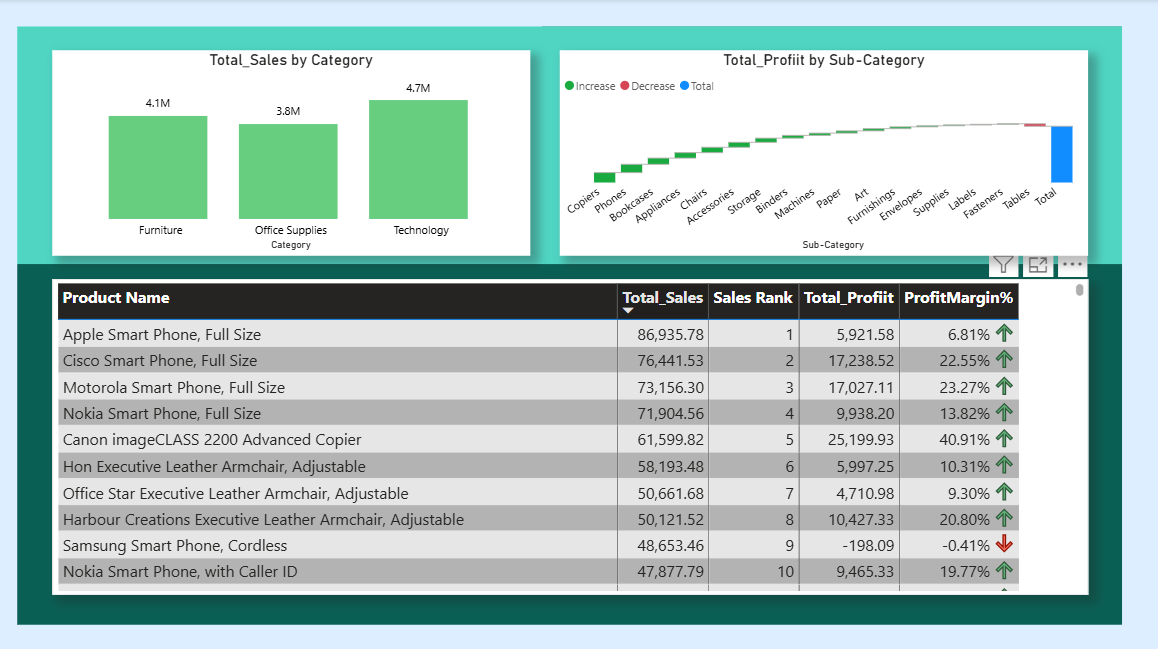

The dashboard page shown, as its layout file describes it:
{"tool":"powerbi","page":{"name":"Sales & Profit Analysis","canvas":[1280,720],"ordinal":1},"visuals":[{"type":"shape","box":[22.8,290.8,1213,396.3],"z":0},{"type":"shape","box":[600.1,29.9,635.7,260.8],"z":1000},{"type":"shape","box":[22.8,29.9,1213,260.8],"z":2000},{"type":"columnChart","fields":{"Y":["Measures (2).Total_Sales"],"Category":["DimProductDetails.Category","DimProductDetails.Sub-Category"]},"box":[61.3,55.6,524.5,225.2],"z":3000},{"type":"tableEx","fields":{"Values":["DimProductDetails.Product Name","Measures (2).Total_Sales","Measures (2).Sales Rank","Measures (2).Total_Profiit","Measures (2).T_ProfitMargin%"]},"box":[61.3,307.9,1137.5,346.4],"z":4000},{"type":"waterfallChart","fields":{"Category":["DimProductDetails.Sub-Category"],"Y":["Measures (2).Total_Profiit"]},"box":[618.6,55.6,580.1,225.2],"z":5000}]}

Visuals, with their boxes in screenshot pixels (x1, y1, x2, y2), scaled from the page's 1280x720 canvas onto the 1158x649 screenshot:
shape: BBox(21, 262, 1118, 619)
shape: BBox(543, 27, 1118, 262)
shape: BBox(21, 27, 1118, 262)
columnChart - Measures (2).Total_Sales x DimProductDetails.Category: BBox(55, 50, 530, 253)
tableEx - DimProductDetails.Product Name x Measures (2).Total_Sales: BBox(55, 278, 1085, 590)
waterfallChart - DimProductDetails.Sub-Category x Measures (2).Total_Profiit: BBox(560, 50, 1084, 253)
